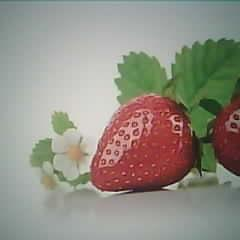straw-ripe: (90, 94, 199, 193)
